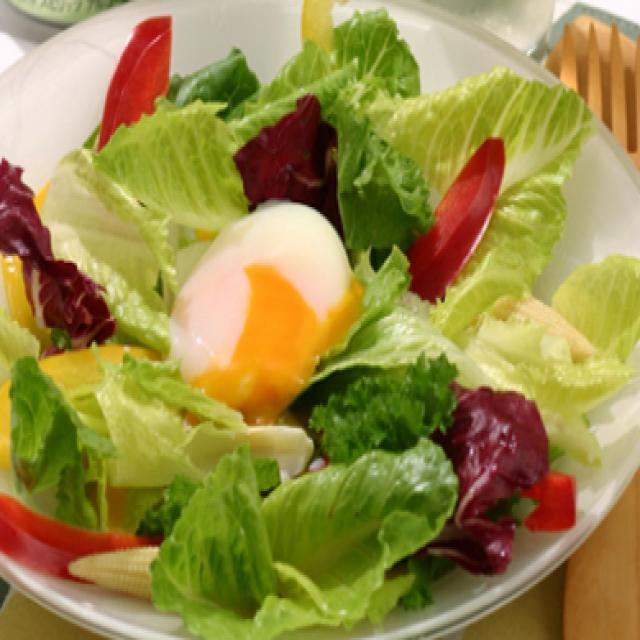Green Salad: (2, 41, 615, 576)
